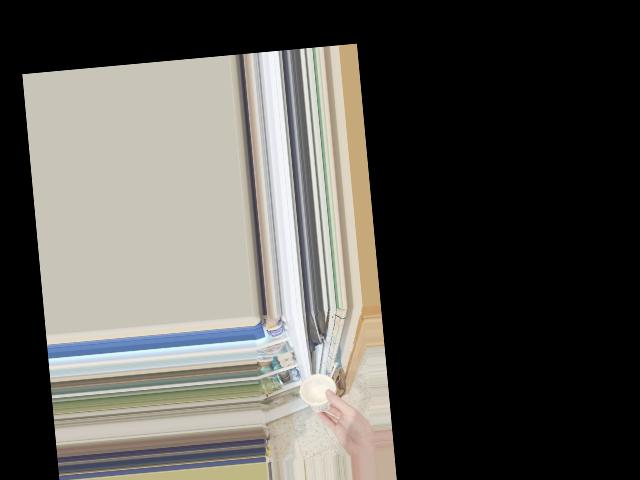cotage: (304, 372, 341, 416)
